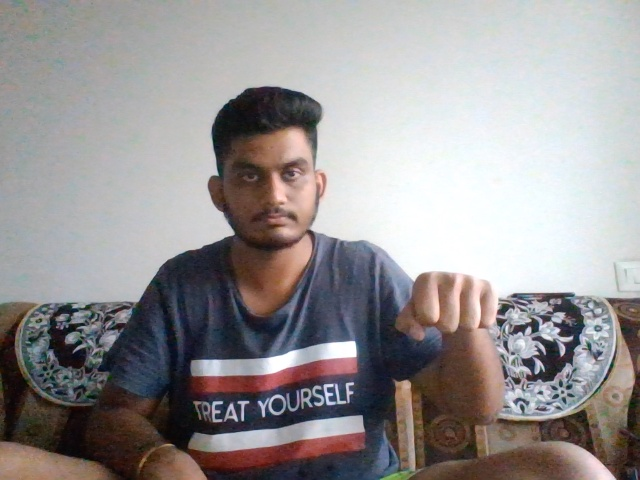Yes: (388, 263, 516, 353)
